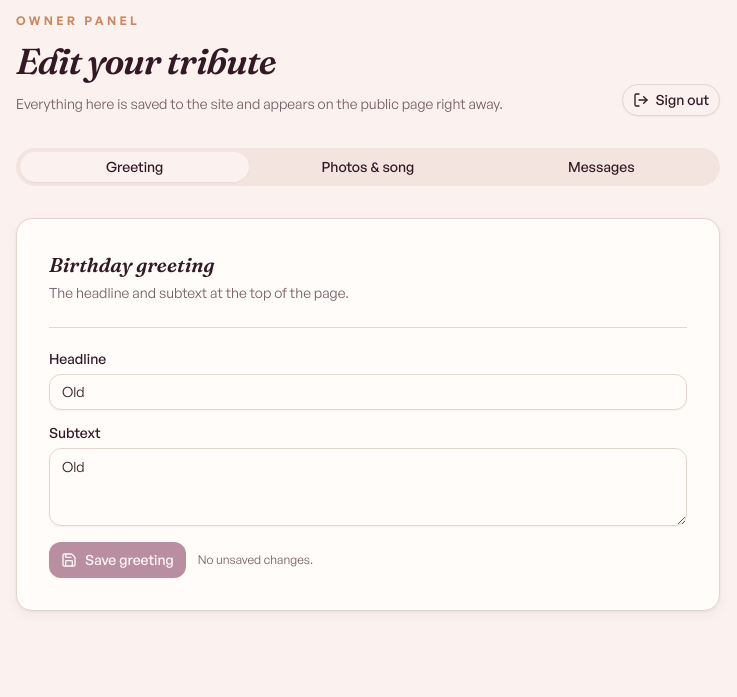
Test case: owner management panel › surfaces an error when a save fails
This screenshot has width=737, height=697.
Replace the text in the field with test id "owner.greeting.headline_input" with "Changed": [368, 392] box left=49, top=374, right=687, bottom=410
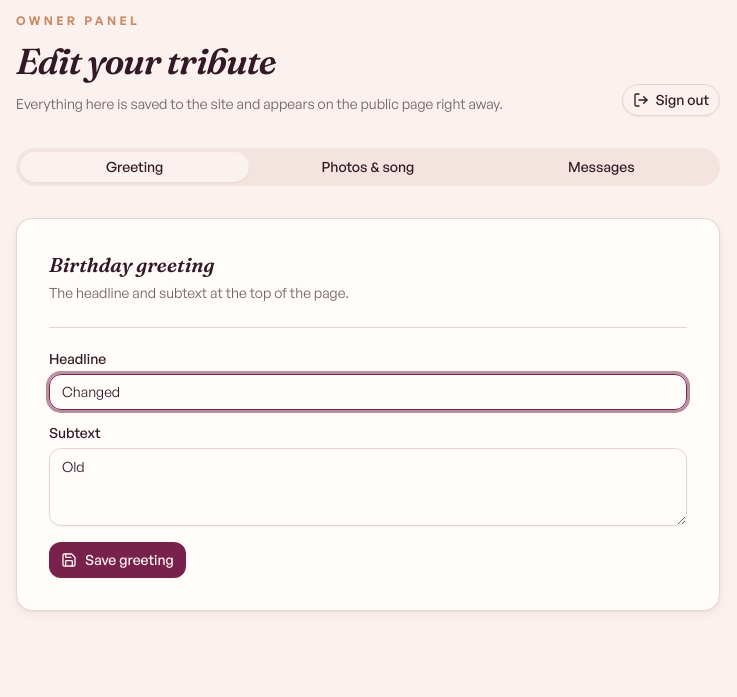
Click the button with test id "owner.greeting.save_button": [117, 560] box left=49, top=542, right=186, bottom=578
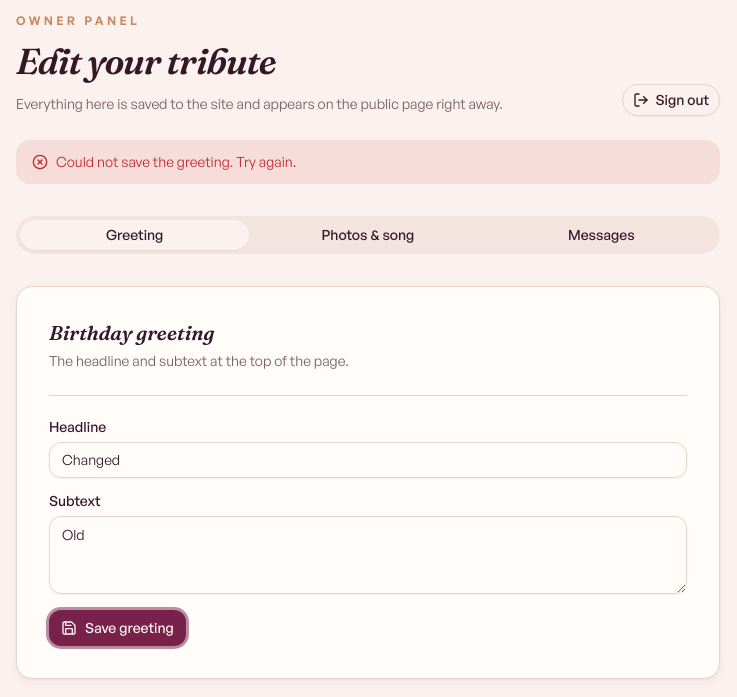
Now the element with test id "admin.error_state" reads "Could not save the greeting. Try again.", box left=56, top=153, right=296, bottom=170
